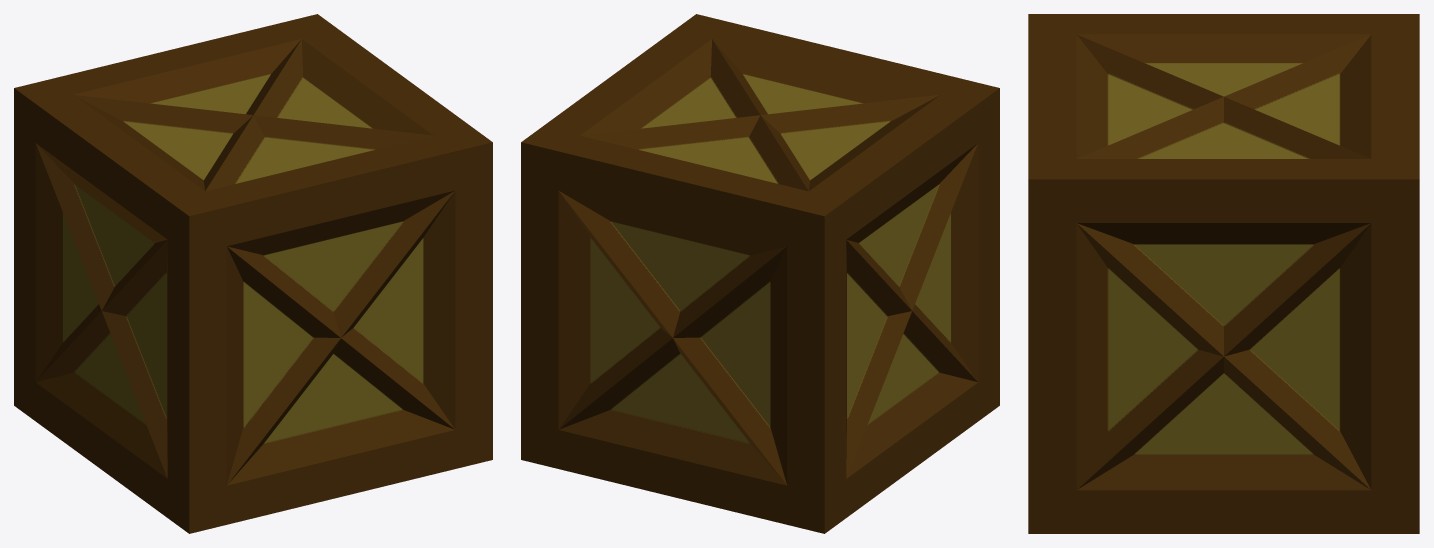
The model's file is MOD_Caja.fbx.
3 views of the same model, side by side, from view 1: azimuth 30°, elevation 25°; view 2: azimuth 150°, elevation 25°; view 3: azimuth 270°, elevation 25° (orthographic). The views are drawn at different scales.
Visible parts, largest first — view 1: Caja; view 2: Caja; view 3: Caja.
Boxes of the visible parts, <box> form: Caja: <box>14,14,492,533</box>; Caja: <box>521,14,999,533</box>; Caja: <box>1028,14,1419,533</box>.
Size of the model in its own units: 200 by 200 by 200.
